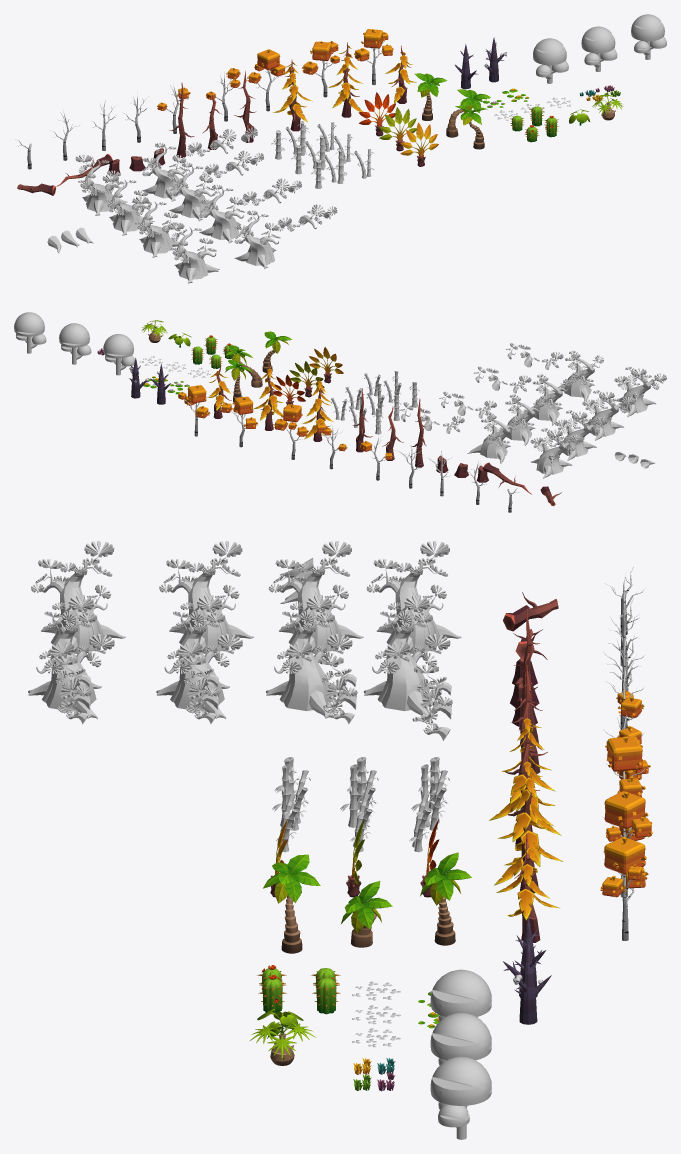
Rendered from tree_nature_pack.fbx.
The picture shows the model from 3 angles, top to bottom: view 1: azimuth 30°, elevation 25°; view 2: azimuth 150°, elevation 25°; view 3: azimuth 270°, elevation 25°; orthographic projection. The views are drawn at different scales.
Parts seen in each view (by area): view 1: ancient_tree_yellow_1, ancient_tree_pink_1, ancient_tree_yellow_2, ancient_tree_pink_2, ancient_tree_1, ancient_tree_winter_1, ancient_tree_2, ancient_tree_winter_2, garden_tree_pink, garden_tree_green, garden_tree_yellow, birch3 (+15 smaller); view 2: ancient_tree_winter_1, ancient_tree_yellow_1, ancient_tree_pink_1, ancient_tree_1, ancient_tree_winter_2, ancient_tree_yellow_2, ancient_tree_pink_2, ancient_tree_2, garden_tree_green, garden_tree_yellow, garden_tree_pink, birch3 (+19 smaller); view 3: ancient_tree_winter_2, ancient_tree_2, ancient_tree_winter_1, ancient_tree_yellow_1, ancient_tree_pink_1, ancient_tree_1, ancient_tree_yellow_2, ancient_tree_pink_2, garden_tree_yellow, garden_tree_pink, birch1, garden_tree_green (+13 smaller).
Part boxes in pixels (bbox=[...]): ancient_tree_yellow_1: bbox=[168, 222, 219, 283]; ancient_tree_pink_1: bbox=[132, 196, 184, 257]; ancient_tree_yellow_2: bbox=[234, 210, 280, 268]; ancient_tree_pink_2: bbox=[199, 184, 244, 242]; ancient_tree_1: bbox=[102, 174, 154, 235]; ancient_tree_winter_1: bbox=[75, 154, 127, 215]; ancient_tree_2: bbox=[169, 162, 214, 220]; ancient_tree_winter_2: bbox=[142, 142, 187, 201]; garden_tree_pink: bbox=[581, 26, 617, 71]; garden_tree_green: bbox=[533, 38, 568, 83]; garden_tree_yellow: bbox=[631, 14, 666, 59]; birch3: bbox=[247, 49, 285, 111]; ancient_tree_winter_1: bbox=[530, 428, 582, 478]; ancient_tree_yellow_1: bbox=[614, 366, 666, 417]; ancient_tree_pink_1: bbox=[582, 390, 634, 440]; ancient_tree_1: bbox=[555, 410, 607, 460]; ancient_tree_winter_2: bbox=[467, 412, 520, 463]; ancient_tree_yellow_2: bbox=[551, 350, 603, 401]; ancient_tree_pink_2: bbox=[523, 374, 571, 425]; ancient_tree_2: bbox=[499, 394, 544, 445]; garden_tree_green: bbox=[103, 334, 134, 375]; garden_tree_yellow: bbox=[14, 312, 46, 353]; garden_tree_pink: bbox=[59, 323, 91, 364]; birch3: bbox=[273, 404, 308, 459]; ancient_tree_winter_2: bbox=[364, 611, 450, 718]; ancient_tree_2: bbox=[266, 611, 352, 718]; ancient_tree_winter_1: bbox=[366, 541, 461, 653]; ancient_tree_yellow_1: bbox=[31, 541, 125, 653]; ancient_tree_pink_1: bbox=[159, 541, 253, 653]; ancient_tree_1: bbox=[268, 541, 363, 653]; ancient_tree_yellow_2: bbox=[28, 611, 114, 719]; ancient_tree_pink_2: bbox=[156, 611, 242, 718]; garden_tree_yellow: bbox=[430, 1056, 491, 1139]; garden_tree_pink: bbox=[430, 1013, 491, 1065]; birch1: bbox=[600, 837, 648, 940]; garden_tree_green: bbox=[430, 969, 491, 1021].
Bounding box in the file's own units: 17849 × 2000 × 8089.
